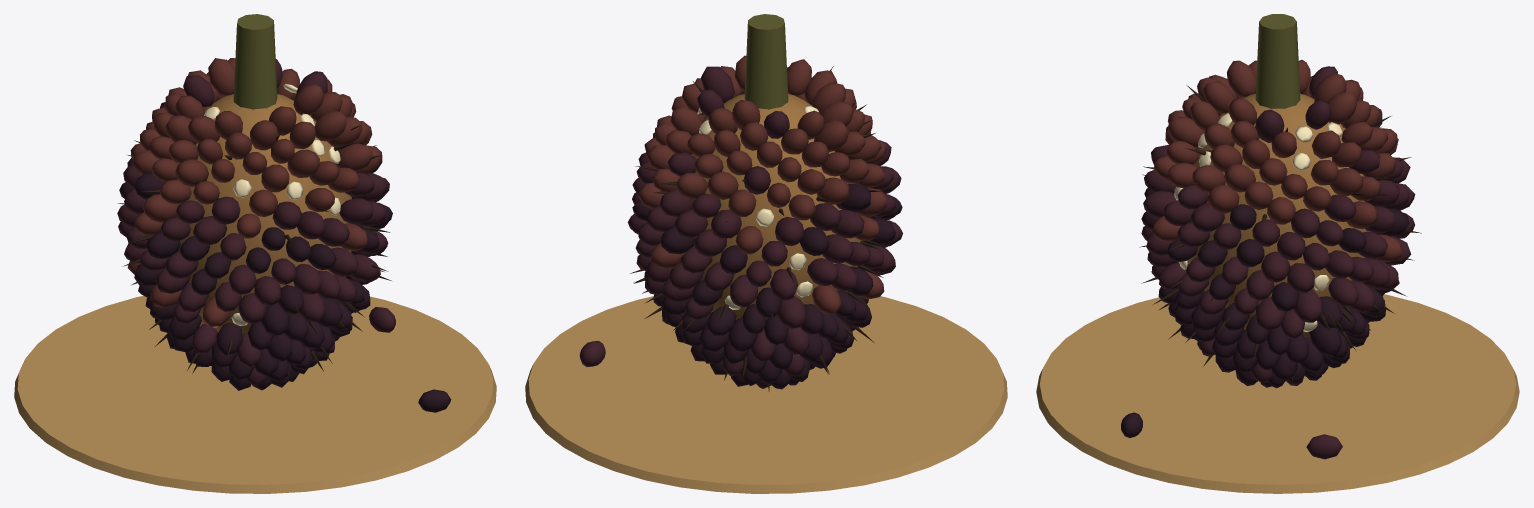
File: tbs-f0.glb
The picture shows the model from 3 angles, left to right: view 1: azimuth 30°, elevation 25°; view 2: azimuth 150°, elevation 25°; view 3: azimuth 270°, elevation 25°; orthographic projection.
Visible parts, largest first — view 1: TBS_fraksi_0; view 2: TBS_fraksi_0; view 3: TBS_fraksi_0.
Boxes of the visible parts, <box> form: TBS_fraksi_0: <box>14,14,496,493</box>; TBS_fraksi_0: <box>525,14,1007,493</box>; TBS_fraksi_0: <box>1036,14,1519,493</box>.
Size of the model in its own units: 0.69 by 0.583 by 0.69.
